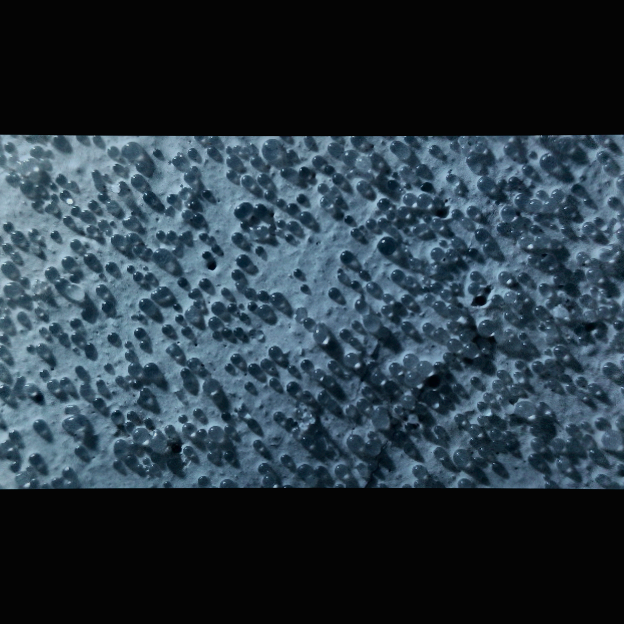GrassBeadSeg: (35, 152, 548, 453), (48, 169, 577, 447), (70, 205, 541, 465), (31, 144, 443, 434), (180, 182, 580, 463), (20, 198, 600, 391), (257, 146, 607, 448), (227, 180, 592, 457), (156, 229, 599, 457), (96, 239, 563, 447), (59, 141, 452, 387), (122, 141, 565, 356), (4, 141, 543, 316), (60, 188, 462, 422), (94, 143, 439, 406), (94, 176, 456, 421), (50, 193, 552, 367), (64, 195, 517, 384), (52, 206, 505, 391), (224, 153, 603, 371), (114, 192, 477, 419), (20, 179, 535, 339), (170, 192, 584, 384), (39, 164, 412, 376), (191, 224, 598, 418), (133, 207, 460, 439), (91, 168, 408, 407), (122, 182, 603, 337), (111, 232, 569, 391), (91, 175, 519, 341), (265, 215, 576, 432), (244, 185, 532, 414), (135, 156, 534, 320), (44, 293, 445, 451), (406, 186, 623, 470), (63, 187, 394, 372), (275, 197, 589, 384), (48, 322, 461, 464), (297, 192, 614, 374), (160, 228, 441, 433), (168, 229, 463, 421), (242, 154, 545, 338), (205, 196, 507, 378), (11, 162, 427, 294), (313, 205, 514, 475), (47, 154, 536, 263), (124, 220, 505, 359), (251, 212, 476, 447), (206, 145, 595, 280), (72, 184, 515, 301), (239, 219, 513, 399), (143, 190, 582, 302), (71, 247, 444, 375), (345, 204, 572, 413), (43, 147, 530, 244), (383, 213, 610, 421), (105, 168, 337, 369), (76, 216, 443, 341), (138, 193, 527, 309), (303, 240, 495, 475), (74, 296, 583, 384), (193, 150, 384, 384), (207, 192, 524, 330), (47, 308, 441, 419), (110, 172, 284, 420), (12, 211, 201, 438), (377, 196, 615, 376), (164, 280, 442, 433), (188, 286, 437, 456), (126, 263, 325, 475), (45, 201, 586, 278), (250, 153, 459, 351), (350, 156, 608, 316), (45, 270, 371, 394), (124, 205, 401, 347), (129, 352, 542, 447), (476, 175, 618, 446), (372, 199, 541, 423), (226, 192, 431, 373), (309, 163, 533, 327), (134, 269, 340, 439), (161, 226, 487, 333), (53, 195, 188, 453), (142, 148, 295, 375), (176, 175, 492, 284), (69, 238, 290, 392), (0, 216, 133, 471), (404, 181, 547, 412), (31, 292, 266, 430), (322, 273, 599, 384), (215, 226, 359, 439), (189, 177, 433, 302), (3, 142, 409, 216), (105, 134, 409, 232), (326, 374, 598, 482), (256, 368, 534, 473), (179, 367, 539, 447), (296, 359, 543, 475), (0, 383, 275, 485), (390, 140, 526, 340), (98, 218, 200, 484), (237, 236, 362, 449), (260, 138, 356, 415), (277, 300, 472, 434), (93, 396, 419, 475), (225, 154, 385, 314), (211, 154, 323, 380), (469, 268, 608, 446), (355, 195, 617, 287), (149, 189, 274, 375), (310, 153, 475, 293), (250, 154, 359, 365), (197, 427, 606, 483), (68, 181, 327, 267), (134, 165, 262, 337), (74, 229, 170, 455), (207, 172, 343, 328), (112, 162, 265, 298), (194, 218, 297, 416), (276, 150, 535, 227), (285, 201, 527, 281), (279, 377, 504, 463), (259, 281, 480, 368), (356, 242, 592, 321), (156, 140, 277, 294), (285, 416, 547, 487), (68, 140, 456, 187), (152, 148, 376, 228), (387, 178, 513, 319), (198, 436, 559, 485), (243, 381, 425, 476), (422, 175, 553, 306), (83, 251, 412, 303), (334, 195, 414, 408), (69, 321, 298, 393), (40, 399, 530, 432), (209, 321, 433, 391), (181, 210, 303, 336), (234, 252, 369, 365), (174, 209, 309, 321), (8, 411, 541, 439), (130, 270, 228, 419), (327, 362, 468, 464), (299, 206, 387, 369), (364, 393, 607, 452), (197, 276, 354, 365), (302, 149, 357, 399), (3, 280, 71, 477), (182, 290, 283, 421), (220, 162, 317, 297), (169, 302, 268, 434), (230, 268, 430, 333), (317, 155, 370, 400), (106, 146, 250, 231), (55, 147, 138, 293), (272, 321, 393, 420), (235, 267, 413, 331), (161, 323, 418, 366), (173, 244, 262, 367), (163, 407, 300, 486), (79, 303, 197, 389), (165, 255, 419, 294), (31, 201, 135, 295), (256, 151, 555, 183), (333, 153, 391, 314), (20, 298, 243, 339), (51, 183, 213, 239), (166, 192, 254, 295), (89, 187, 209, 262), (98, 221, 260, 276), (327, 285, 495, 337), (190, 151, 287, 240), (240, 173, 559, 200), (503, 327, 587, 429), (529, 341, 623, 432), (0, 152, 45, 336), (461, 231, 526, 356), (87, 199, 369, 227), (295, 168, 534, 201), (280, 180, 425, 233), (63, 214, 111, 372), (274, 165, 308, 387), (337, 267, 443, 338), (210, 258, 344, 314), (145, 275, 365, 309), (328, 134, 404, 231), (25, 416, 153, 472), (28, 331, 82, 463), (135, 175, 241, 241), (210, 166, 292, 251), (60, 370, 523, 385), (49, 180, 72, 476), (207, 397, 369, 439), (302, 396, 481, 434), (400, 268, 600, 302), (388, 245, 439, 376), (100, 172, 153, 298), (133, 367, 232, 432), (233, 200, 617, 216), (268, 362, 524, 386), (164, 141, 253, 210), (359, 146, 405, 278), (113, 333, 217, 391), (356, 394, 433, 472), (151, 246, 185, 420), (203, 195, 330, 241), (182, 422, 376, 452), (405, 334, 521, 384), (29, 429, 188, 465), (424, 179, 532, 232), (499, 135, 605, 187), (26, 382, 575, 392), (390, 267, 473, 332), (155, 406, 251, 461), (98, 191, 204, 239), (0, 277, 66, 353), (19, 292, 96, 352), (339, 230, 480, 261), (356, 179, 392, 300), (503, 141, 522, 368), (267, 296, 335, 359), (122, 159, 185, 227), (165, 342, 252, 391), (21, 255, 158, 286), (254, 134, 307, 214), (344, 216, 592, 233), (385, 208, 474, 255), (11, 229, 359, 241), (177, 151, 243, 208), (264, 267, 300, 371), (367, 387, 438, 438), (490, 298, 551, 355), (457, 455, 568, 486), (302, 188, 326, 327), (519, 293, 616, 327), (470, 247, 494, 384), (414, 238, 521, 268), (297, 275, 357, 328), (183, 170, 194, 456), (16, 346, 85, 390), (543, 162, 610, 206), (110, 173, 140, 270), (50, 226, 292, 238), (54, 281, 94, 353), (14, 459, 116, 486), (434, 310, 454, 443), (466, 188, 564, 215), (10, 133, 64, 181), (304, 421, 412, 445), (369, 313, 486, 335), (172, 301, 239, 339), (230, 352, 410, 366), (445, 351, 472, 444), (38, 272, 78, 334), (262, 435, 310, 484), (101, 294, 247, 310), (431, 196, 456, 289), (0, 315, 64, 351), (574, 227, 623, 274), (95, 152, 111, 293), (2, 171, 36, 237), (440, 235, 461, 339), (536, 188, 584, 232), (30, 199, 94, 232), (206, 418, 255, 460), (368, 468, 469, 488), (127, 361, 260, 376), (577, 196, 623, 239), (544, 463, 618, 489), (432, 445, 533, 464), (307, 134, 378, 161), (3, 292, 34, 353), (433, 195, 449, 313), (323, 163, 352, 224), (135, 306, 174, 350), (0, 227, 38, 272), (433, 299, 538, 315), (33, 273, 73, 315), (396, 383, 450, 414), (452, 382, 478, 446), (107, 331, 141, 376), (79, 176, 104, 234), (528, 424, 560, 469), (182, 278, 357, 286), (412, 225, 455, 257), (253, 206, 291, 242), (61, 254, 80, 325), (478, 387, 497, 457), (220, 300, 255, 337), (458, 329, 480, 386), (361, 179, 369, 329), (377, 234, 395, 300), (171, 154, 189, 219), (382, 213, 462, 227), (0, 441, 26, 484), (453, 151, 468, 225), (482, 391, 496, 469), (577, 319, 622, 343), (456, 385, 485, 422), (129, 345, 150, 396), (478, 141, 500, 187), (547, 377, 584, 402), (185, 301, 242, 317), (136, 244, 206, 257), (179, 230, 209, 260), (403, 420, 439, 445), (131, 269, 160, 299), (572, 267, 600, 295), (125, 231, 141, 280), (434, 361, 451, 406), (15, 343, 33, 384), (521, 325, 551, 349), (5, 309, 38, 330), (128, 440, 159, 462), (291, 409, 319, 433), (0, 331, 66, 341), (123, 443, 149, 467), (0, 437, 19, 469), (235, 280, 249, 320), (414, 224, 422, 291), (377, 216, 410, 232), (483, 440, 514, 456), (2, 241, 18, 272), (490, 289, 523, 304), (114, 458, 146, 473), (371, 429, 406, 442), (14, 470, 38, 487), (509, 382, 552, 391), (580, 216, 603, 232), (423, 274, 451, 287), (223, 422, 232, 461), (579, 393, 589, 428), (490, 437, 500, 471), (393, 404, 402, 441), (601, 288, 616, 310), (495, 429, 511, 449), (9, 152, 30, 167), (106, 145, 118, 171), (491, 378, 504, 402), (247, 224, 278, 234), (476, 399, 487, 424), (206, 449, 227, 462), (488, 427, 500, 449), (180, 208, 188, 241), (536, 317, 552, 333), (224, 145, 249, 155), (355, 461, 377, 471), (333, 462, 348, 476), (433, 287, 452, 298), (142, 455, 155, 471), (498, 391, 515, 403), (129, 235, 141, 252), (608, 331, 620, 347), (436, 351, 446, 370), (460, 142, 478, 152), (327, 141, 341, 153), (365, 280, 378, 292), (186, 356, 199, 368), (143, 462, 156, 473), (255, 224, 267, 235), (533, 211, 544, 222), (421, 276, 427, 293), (228, 144, 239, 153), (187, 146, 195, 156), (299, 434, 307, 444), (532, 214, 536, 233), (445, 172, 454, 180), (535, 233, 544, 241), (528, 223, 537, 231), (436, 434, 443, 443), (445, 303, 455, 309)
